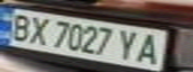0: (63, 21, 84, 53)
2: (78, 22, 100, 55)
7: (93, 25, 118, 57), (48, 18, 72, 51)
A: (133, 30, 166, 66)
B: (3, 10, 36, 42)
X: (24, 13, 54, 46)
Y: (115, 27, 145, 62)
